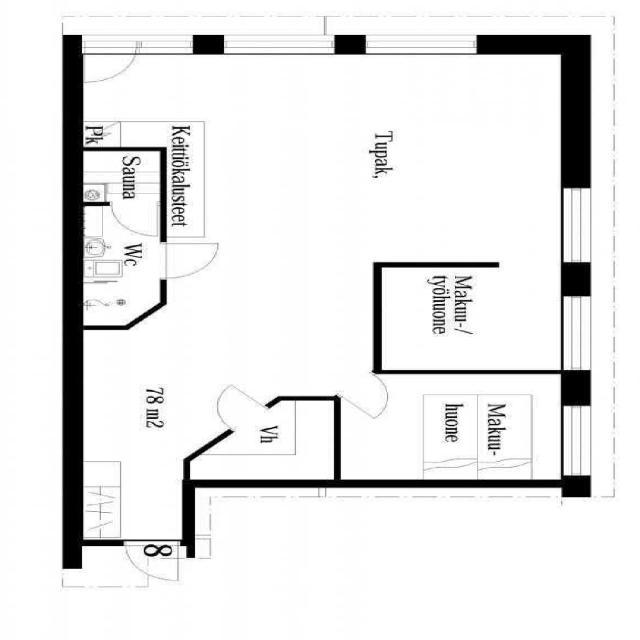door: (73, 357, 340, 481), (372, 264, 567, 375), (150, 236, 226, 282), (106, 197, 165, 239), (83, 42, 138, 84)
window: (550, 181, 603, 276), (552, 290, 602, 378), (553, 400, 601, 485), (355, 31, 488, 60), (214, 30, 340, 57), (135, 36, 199, 56)
zone: (79, 119, 202, 329), (118, 539, 186, 586)
